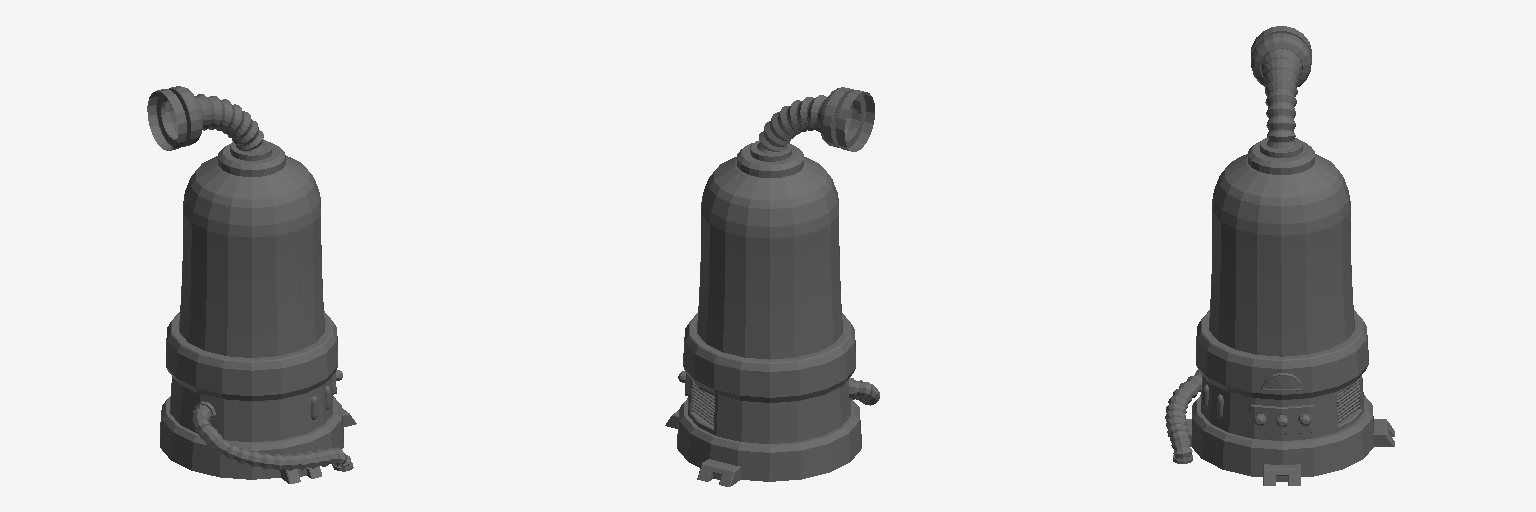
The model's file is ZBrush_testing.obj.
The picture shows the model from 3 angles: view 1: azimuth 30°, elevation 25°; view 2: azimuth 150°, elevation 25°; view 3: azimuth 270°, elevation 25°; orthographic projection.
Visible parts, largest first — view 1: water_tank_obj003; view 2: water_tank_obj003; view 3: water_tank_obj003.
Part boxes in pixels (x1,y1,x2,y2): water_tank_obj003: (147, 86, 356, 483); water_tank_obj003: (665, 87, 879, 486); water_tank_obj003: (1165, 26, 1394, 485).
Size of the model in its own units: 449 by 854 by 482.